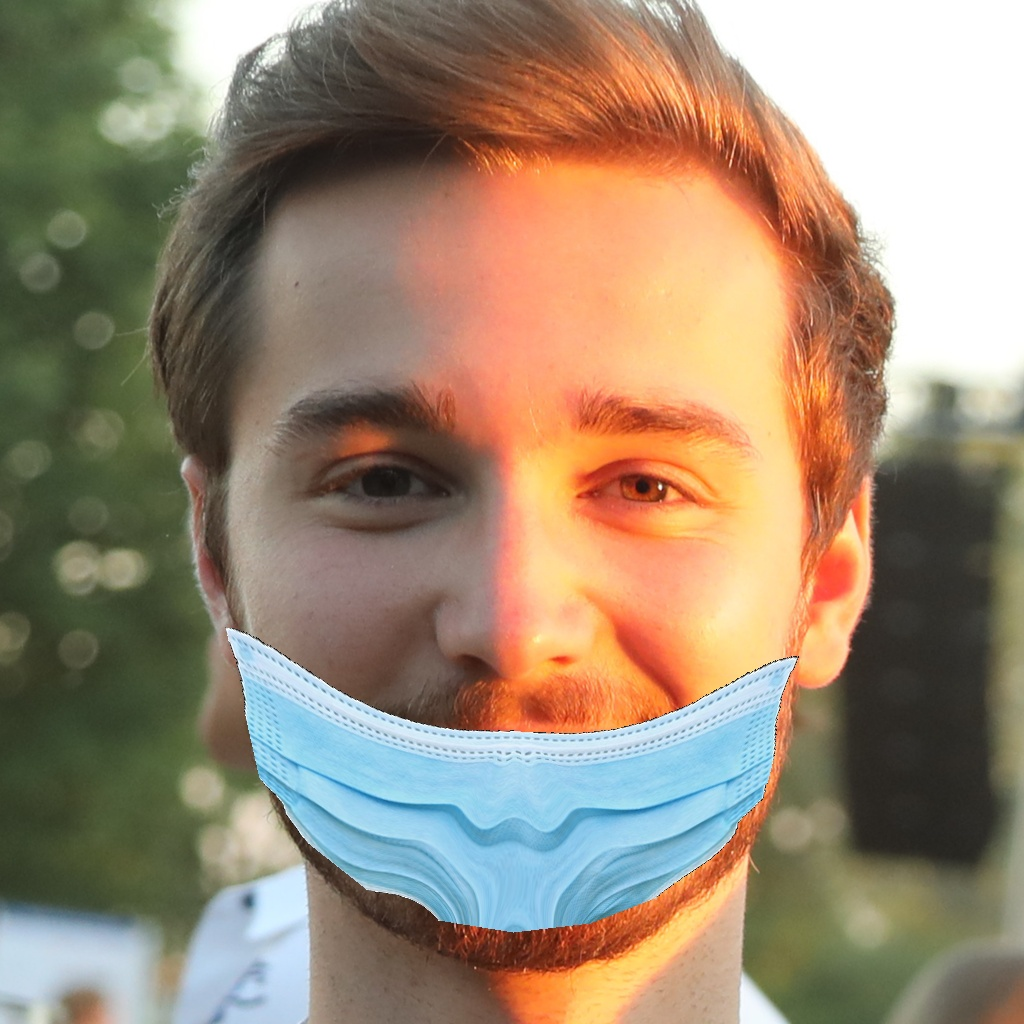mask_weared_incorrect: (195, 360, 850, 979)
